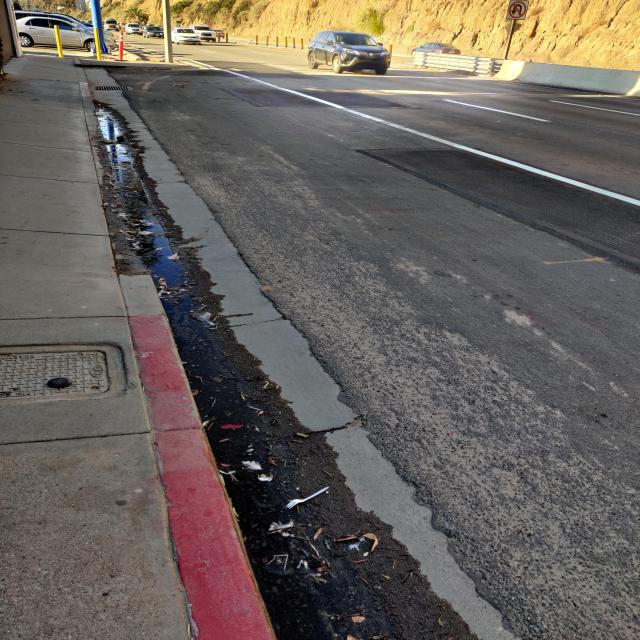litter: (279, 475, 339, 515)
